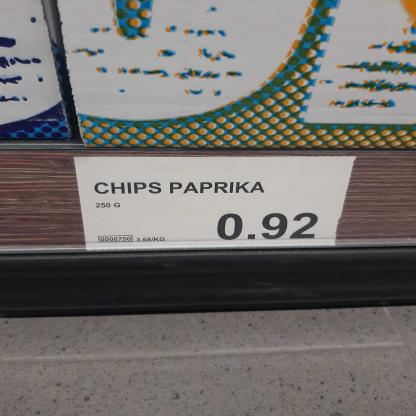prtg: (75, 157, 358, 252)
